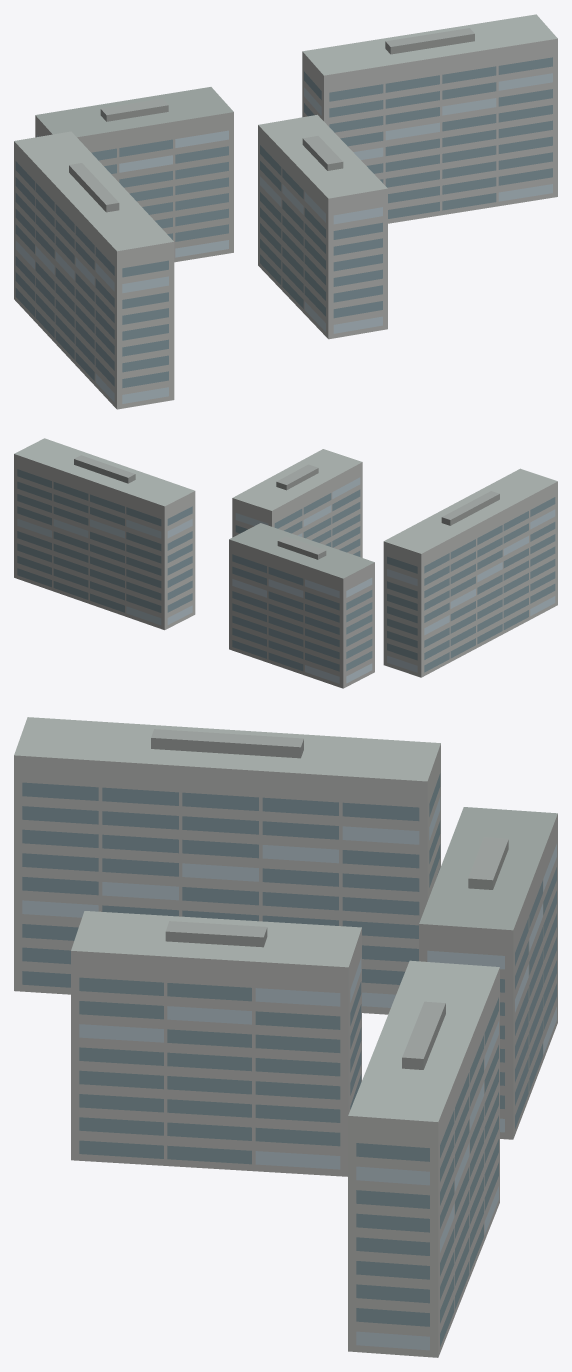
File: apt-a13203001.glb
3 renders of one model, top to bottom at view 1: azimuth 30°, elevation 25°; view 2: azimuth 150°, elevation 25°; view 3: azimuth 270°, elevation 25°, orthographic. The views are drawn at different scales.
Parts seen in each view (by area): view 1: apt-a13203001; view 2: apt-a13203001; view 3: apt-a13203001.
Part boxes in pixels (bbox=[...]): apt-a13203001: bbox=[14, 14, 557, 409]; apt-a13203001: bbox=[14, 438, 557, 688]; apt-a13203001: bbox=[14, 717, 557, 1357].
Bounding box in the file's own units: 95.03 × 27 × 53.93.
